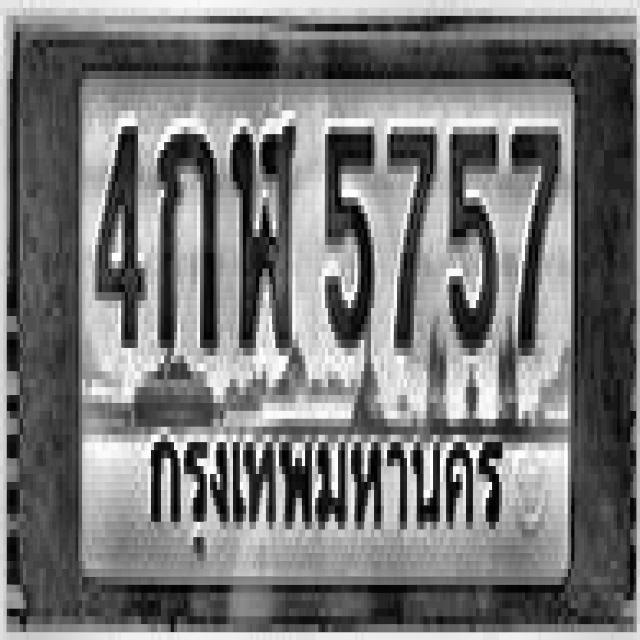license-plate: (16, 21, 630, 615)
